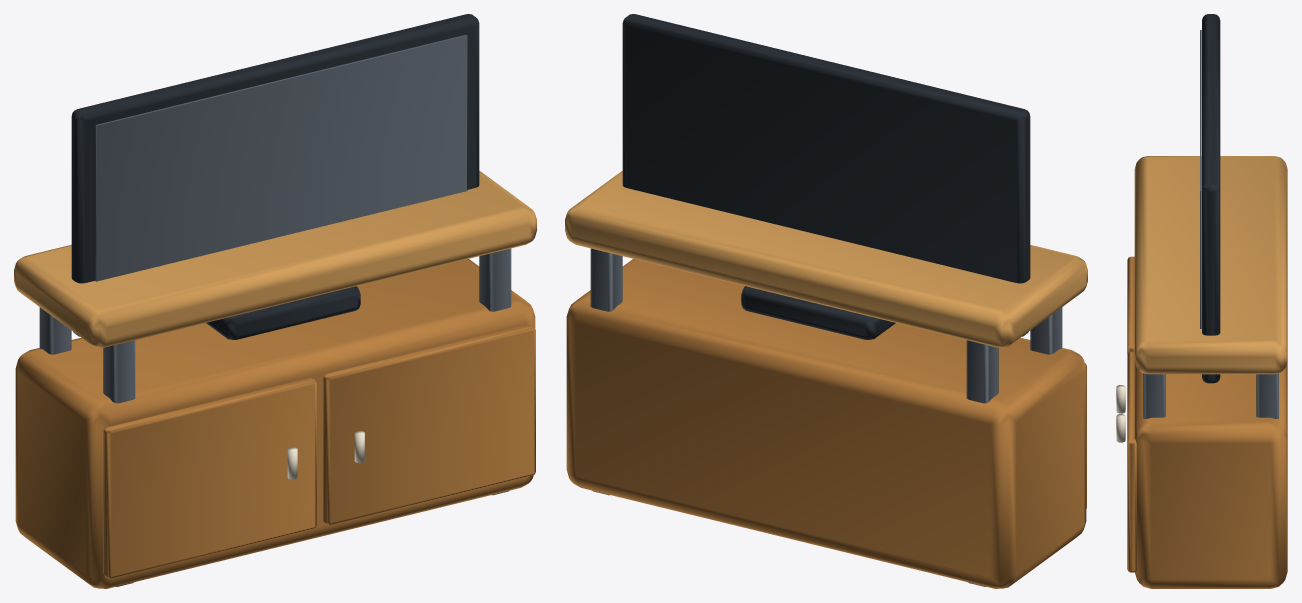
File: home-tv-cabinet.glb
3 views of the same model, side by side, from view 1: azimuth 30°, elevation 25°; view 2: azimuth 150°, elevation 25°; view 3: azimuth 270°, elevation 25° (orthographic). The views are drawn at different scales.
Parts seen in each view (by area): view 1: interior_3_wood, interior_3_metal.001, interior_3_woodLight.001, interior_3_dark, interior_3_ivory; view 2: interior_3_wood, interior_3_dark, interior_3_woodLight.001, interior_3_metal.001; view 3: interior_3_wood, interior_3_woodLight.001, interior_3_dark, interior_3_metal.001, interior_3_ivory.
Boxes of the visible parts, <box> form: interior_3_wood: <box>15,259,535,588</box>; interior_3_metal.001: <box>39,34,511,586</box>; interior_3_woodLight.001: <box>14,171,536,347</box>; interior_3_dark: <box>71,14,479,339</box>; interior_3_ivory: <box>287,431,364,479</box>; interior_3_wood: <box>566,259,1086,588</box>; interior_3_dark: <box>622,14,1030,339</box>; interior_3_woodLight.001: <box>565,171,1087,347</box>; interior_3_metal.001: <box>590,248,1062,586</box>; interior_3_wood: <box>1127,256,1287,588</box>; interior_3_woodLight.001: <box>1134,156,1287,374</box>; interior_3_dark: <box>1202,14,1220,383</box>; interior_3_metal.001: <box>1143,30,1278,418</box>; interior_3_ivory: <box>1116,385,1125,442</box>.
Size of the model in its own units: 1.5 by 1.44 by 0.56.
